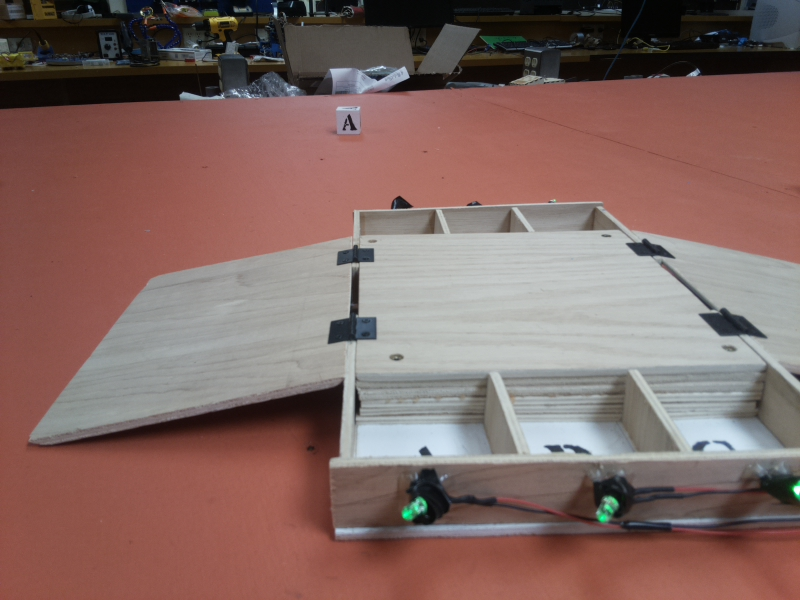blockA: (330, 103, 364, 138)
side: (326, 367, 800, 551), (352, 196, 631, 232)
slope: (26, 225, 348, 456), (629, 223, 800, 372)
